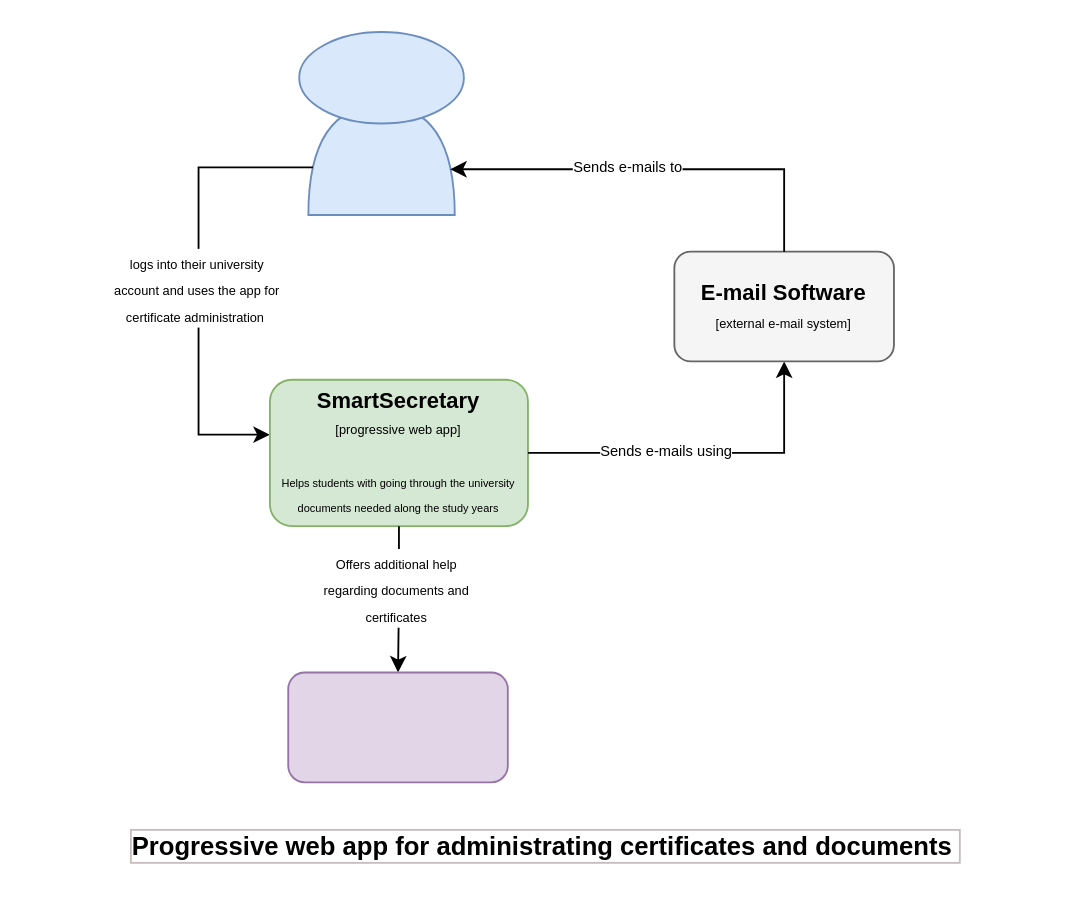
This 1091x906 diagram has some shape labels left out. The shapes that lost their labels are listed below. From the top down, each one's centre as x and y in pixels, then its label:
At (x=381, y=159): "User [student, secretary, admin]".
At (x=397, y=726): "Chatbot - Pubble [software system]".
